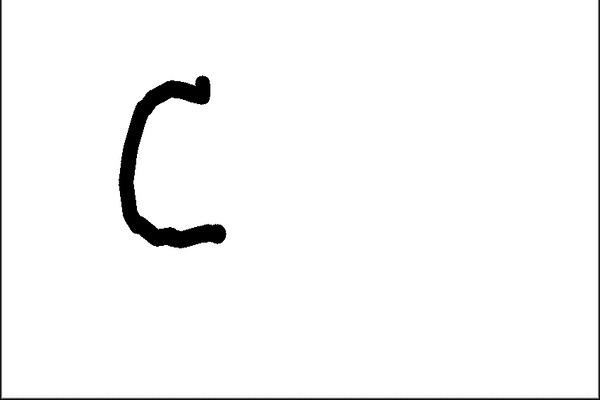C: (113, 70, 237, 251)
